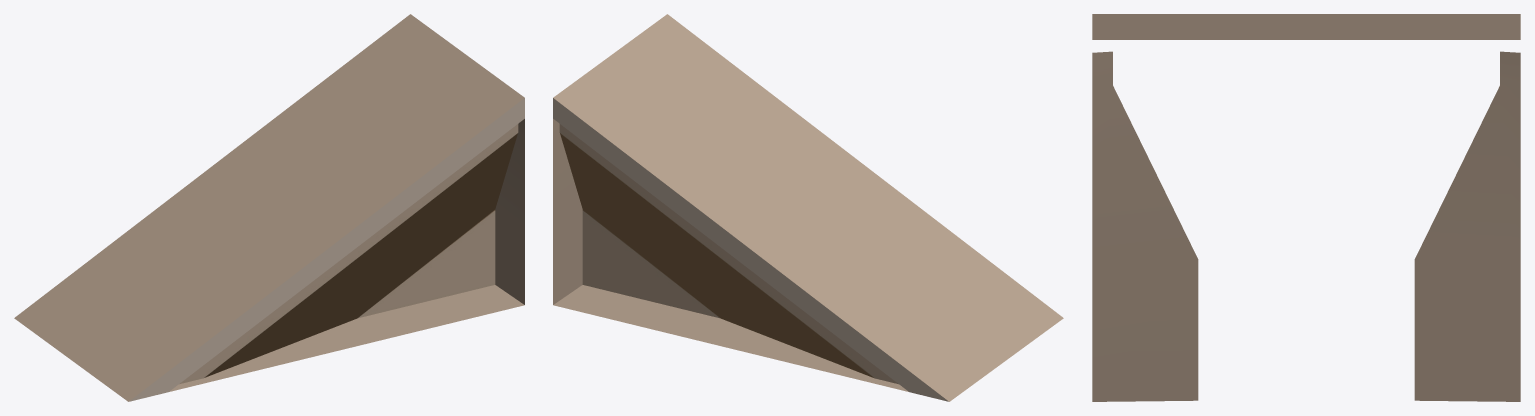
Rendered from 2x4_Ramp.FBX.
3 renders of one model, left to right at view 1: azimuth 30°, elevation 25°; view 2: azimuth 150°, elevation 25°; view 3: azimuth 270°, elevation 25°, orthographic. The views are drawn at different scales.
Parts seen in each view (by area): view 1: 4x2_Ramp; view 2: 4x2_Ramp; view 3: 4x2_Ramp.
Boxes of the visible parts, box(x1,y1,x2,y2) form: 4x2_Ramp: box(14, 14, 524, 401); 4x2_Ramp: box(553, 14, 1063, 401); 4x2_Ramp: box(1092, 14, 1520, 401).
Bounding box in the file's own units: 400 × 200 × 200.
Materials: 1 (1 with a texture image).
